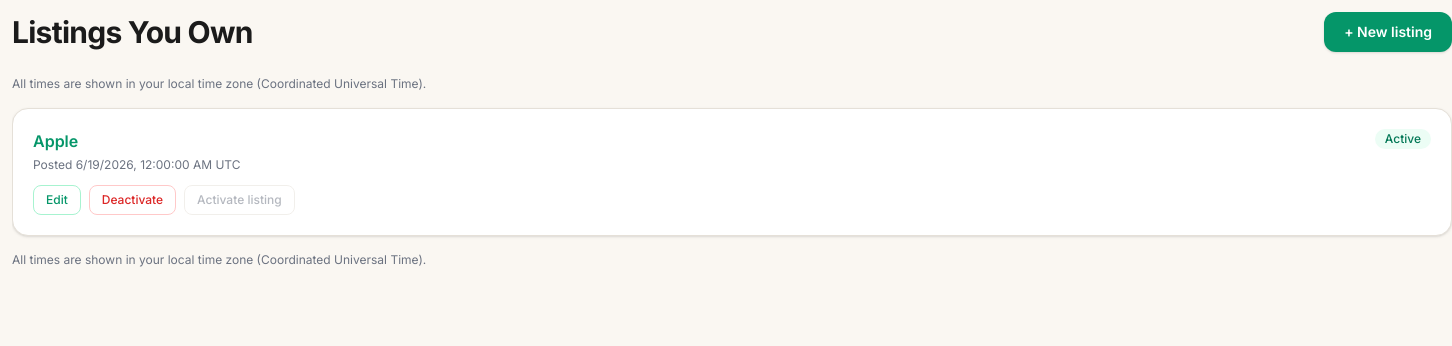
Test: a failed deactivate shows the server message and keeps the row active
Click the button "Deactivate": {"x": 132, "y": 200} [89, 185, 176, 215]
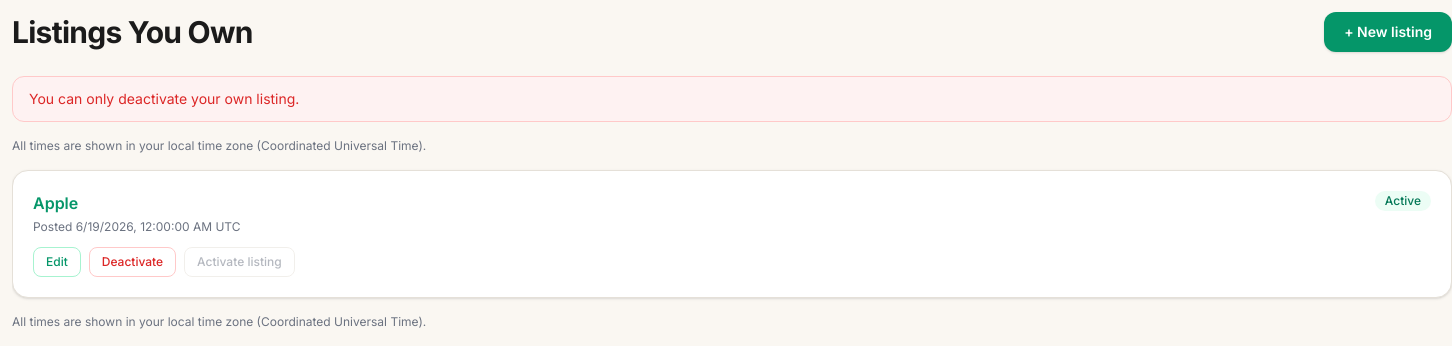
Expected: the link "Apple" is shown, [33, 193, 78, 213]
Now the text "You can only deactivate your own listing." is shown, box [12, 76, 1451, 122]
